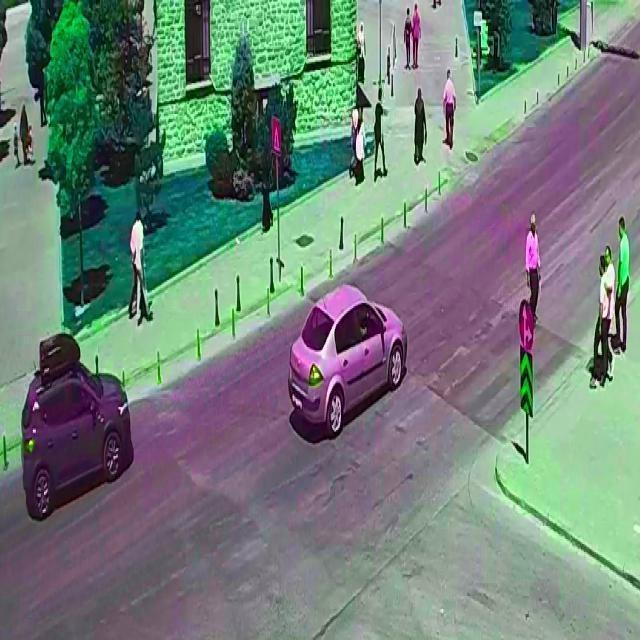Car: (12, 342, 149, 512), (267, 285, 421, 436)
